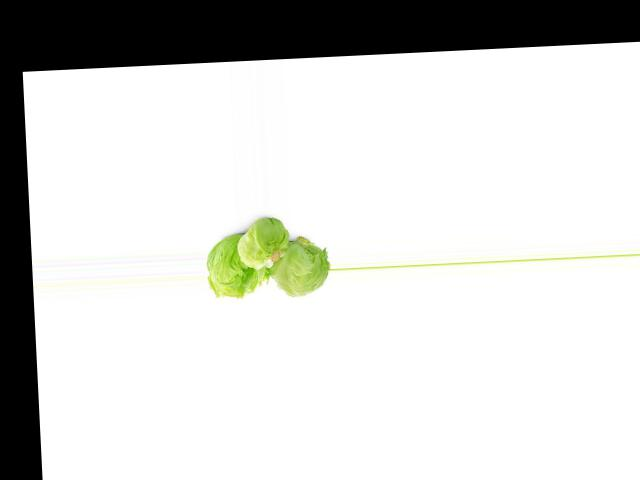lettuce: (208, 236, 263, 296)
